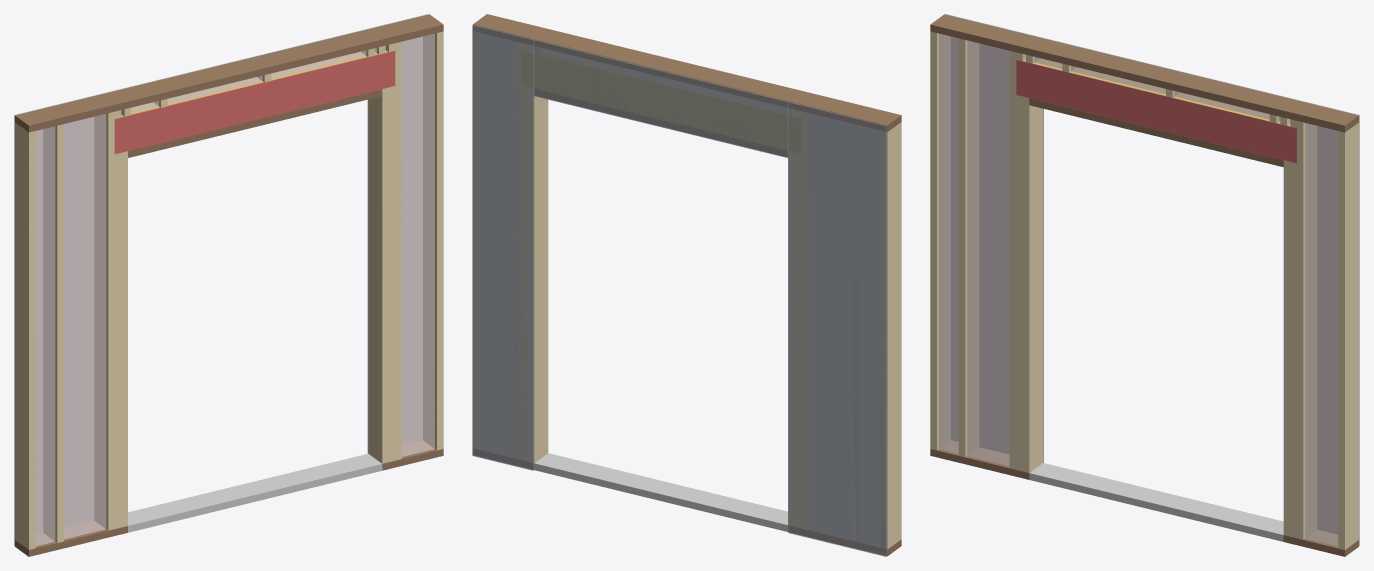
The picture shows the model from 3 angles, left to right: view 1: azimuth 30°, elevation 25°; view 2: azimuth 150°, elevation 25°; view 3: azimuth 330°, elevation 25°; orthographic projection.
Parts seen in each view (by area): view 1: EX14 GF; view 2: EX14 GF; view 3: EX14 GF.
Part boxes in pixels (x1,y1,x2,y2): EX14 GF: [14, 14, 443, 556]; EX14 GF: [472, 14, 901, 556]; EX14 GF: [930, 14, 1359, 556].
Size of the model in its own units: 2.4 by 2.39 by 0.149.
